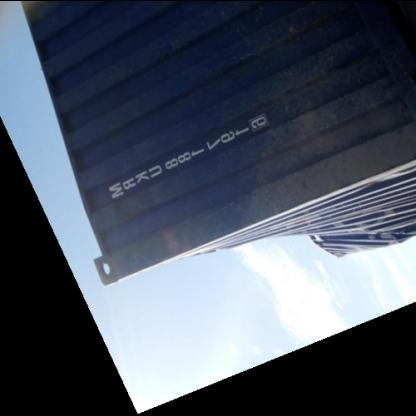Damage: (298, 219, 415, 256), (342, 165, 392, 194)
